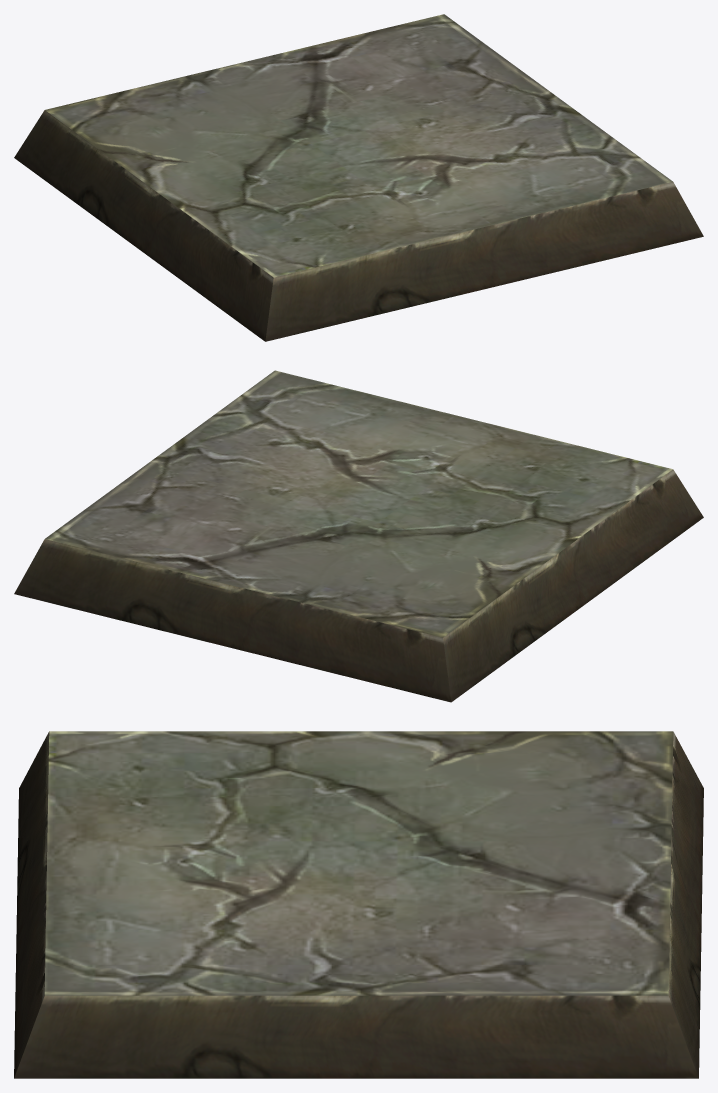
File: F_dizhuan003.fbx
3 renders of one model, top to bottom at view 1: azimuth 30°, elevation 25°; view 2: azimuth 150°, elevation 25°; view 3: azimuth 270°, elevation 25°, orthographic. The views are drawn at different scales.
Parts seen in each view (by area): view 1: F_dizhuan003; view 2: F_dizhuan003; view 3: F_dizhuan003.
Part boxes in pixels (x1=…): F_dizhuan003: x1=14, y1=14, x2=703, y2=341; F_dizhuan003: x1=14, y1=370, x2=703, y2=702; F_dizhuan003: x1=14, y1=731, x2=703, y2=1078.
Bounding box in the file's own units: 118 × 13.29 × 119.
